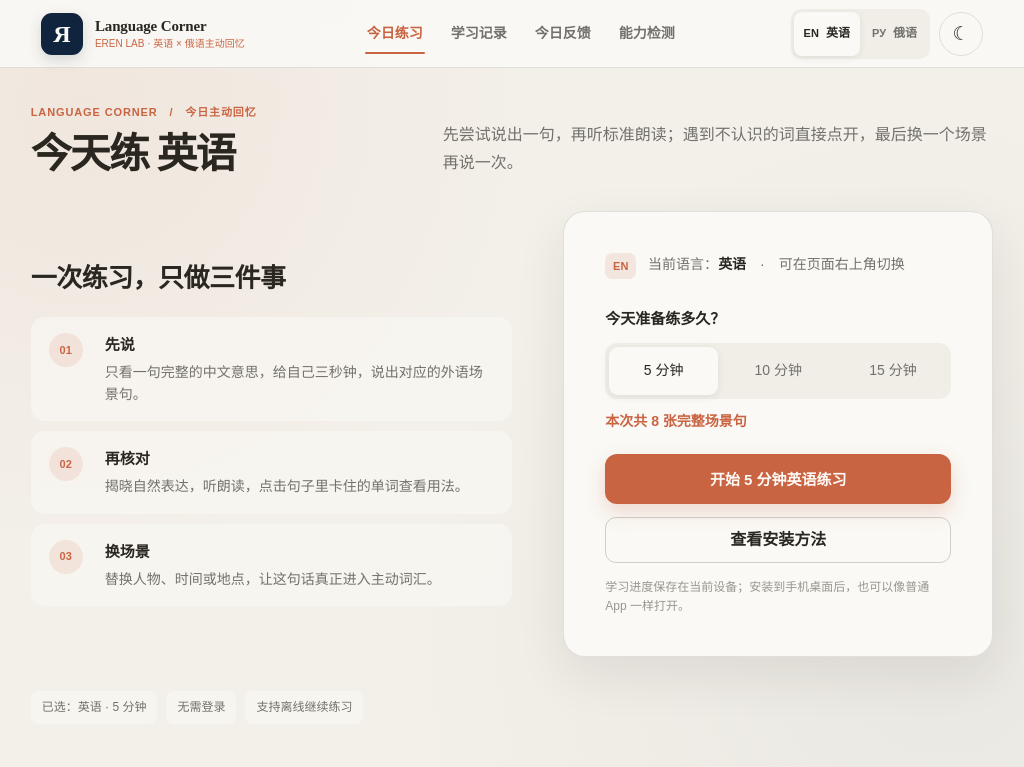
Scenario: Language Corner app › explains phone installation without requesting permissions
What coordinates should you click on to do the following:
click the button "查看安装方法"
I would click on:
 (778, 540)
Its box is [605,517,951,563].
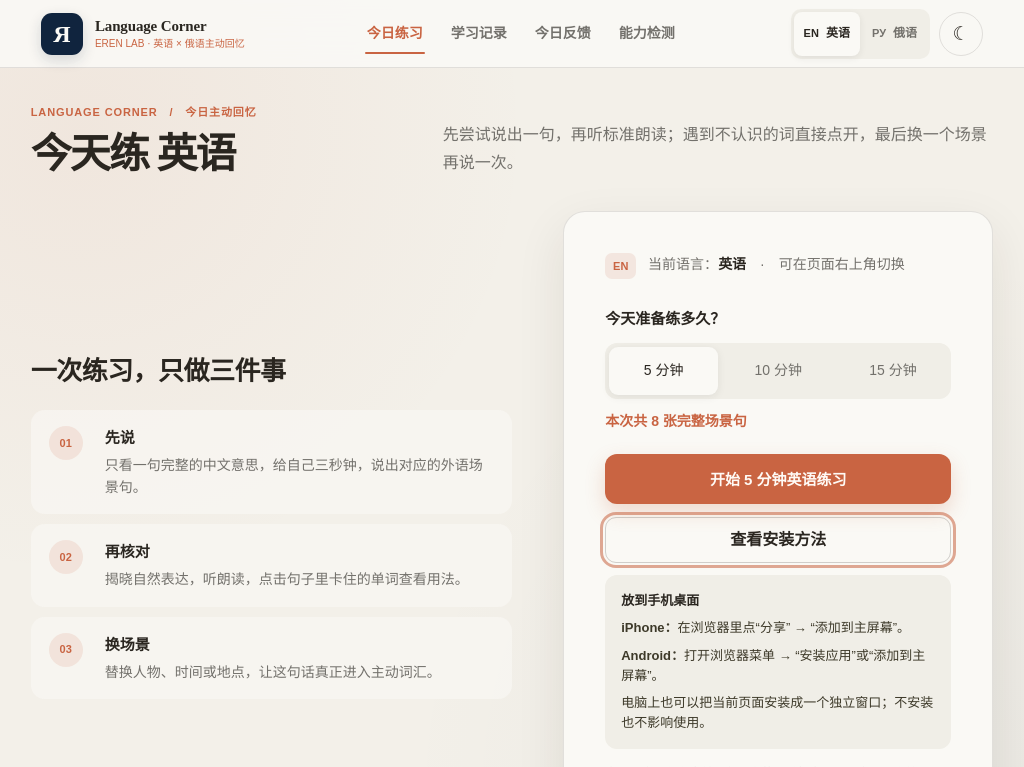
Expected: the text "iPhone：" is shown, [621,620,678,636]
Expected: the text "iPhone：在浏览器里点“分享” → “添加到主屏幕”。" is shown 2 times, [621,618,935,639]; [621,646,935,686]
